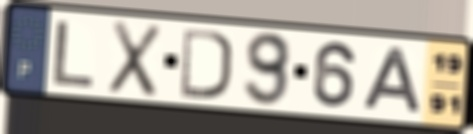6: (312, 39, 360, 111)
9: (240, 29, 293, 110)
A: (360, 45, 425, 116)
D: (178, 25, 235, 102)
L: (49, 18, 98, 90)
X: (105, 17, 165, 100)
